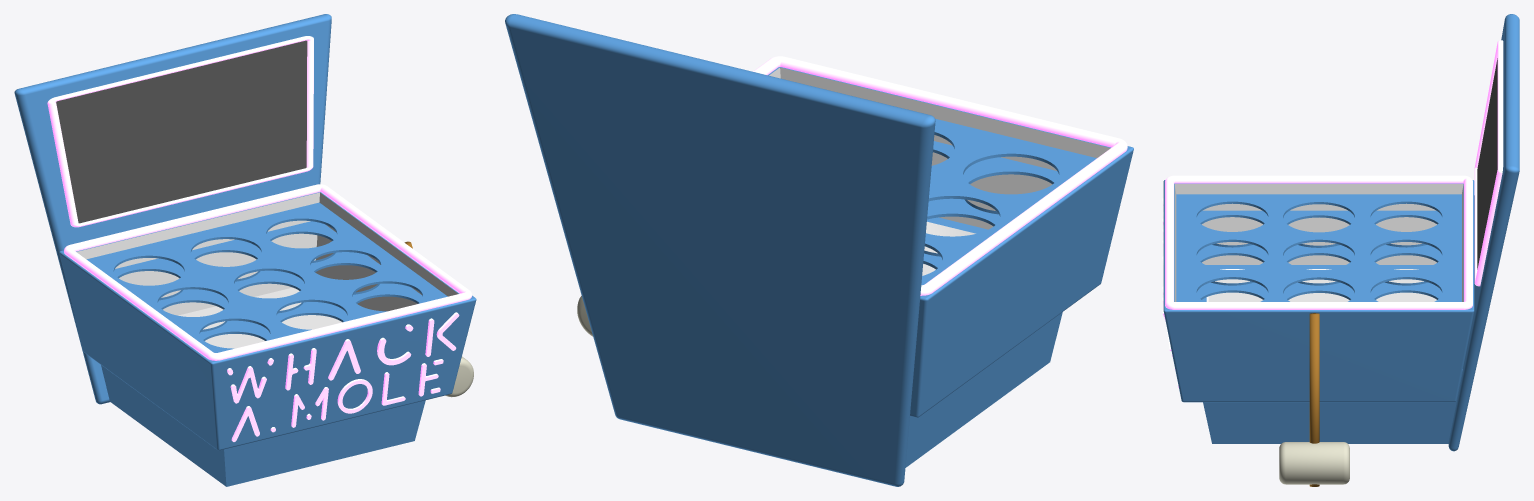
3 views of the same model, side by side, from view 1: azimuth 30°, elevation 25°; view 2: azimuth 150°, elevation 25°; view 3: azimuth 270°, elevation 25° (orthographic). The views are drawn at different scales.
Parts seen in each view (by area): view 1: Null, Null_Mat_0.001; view 2: Null; view 3: Null, Null_Mat_0.001, Null_Mat.1_0.001.
Part boxes in pixels (x1=…): Null: x1=14, y1=14, x2=476, y2=486; Null_Mat_0.001: x1=445, y1=356, x2=473, y2=397; Null: x1=505, y1=14, x2=1133, y2=486; Null: x1=1162, y1=14, x2=1519, y2=451; Null_Mat_0.001: x1=1279, y1=442, x2=1349, y2=484; Null_Mat.1_0.001: x1=1309, y1=313, x2=1319, y2=486.
Bounding box in the file's own units: 1.55 × 1.31 × 1.37.
